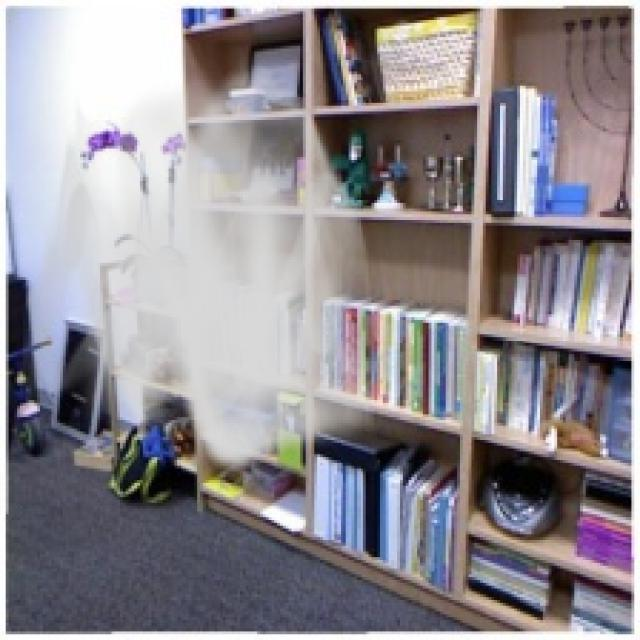Smoke: (17, 54, 386, 474)
